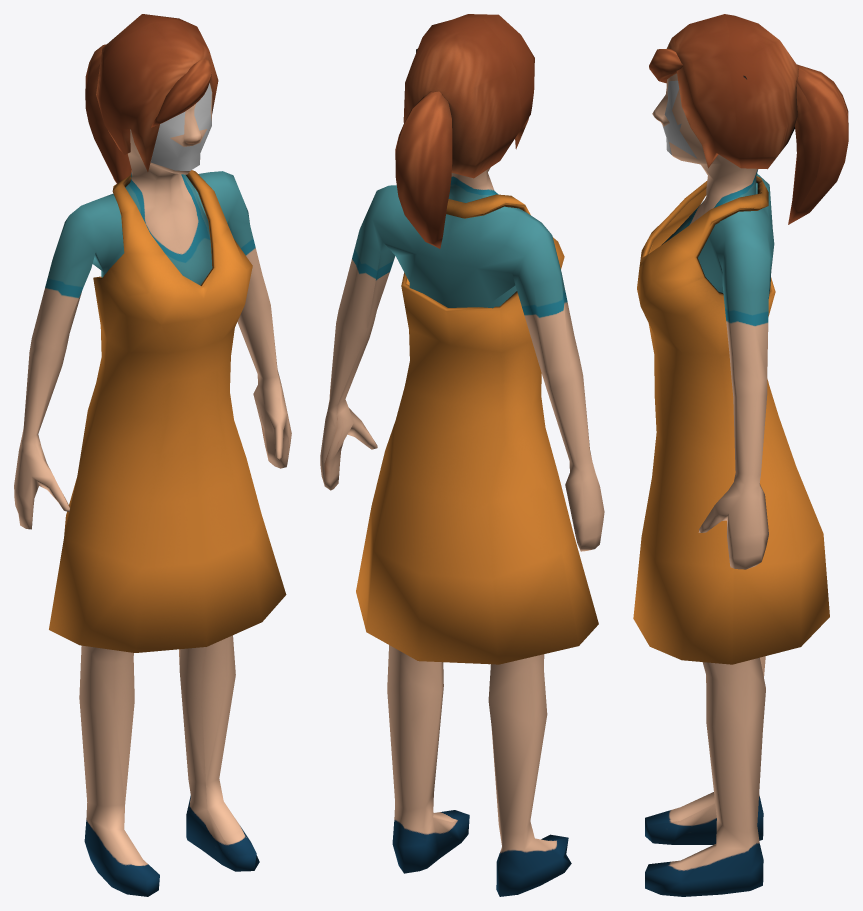
File: Girlfriend_interim.FBX
3 renders of one model, left to right at view 1: azimuth 30°, elevation 25°; view 2: azimuth 150°, elevation 25°; view 3: azimuth 270°, elevation 25°, orthographic. The views are drawn at different scales.
Visible parts, largest first — view 1: Object012, Object007, Face; view 2: Object012, Object007; view 3: Object012, Object007, Face.
Boxes of the visible parts, x1,y1,x2,y2 form: Object012: (14,83,291,896); Object007: (85,14,218,183); Face: (151,83,211,170); Object012: (320,48,604,896); Object007: (395,14,534,248); Object012: (633,73,829,896); Object007: (649,14,848,224); Face: (662,80,697,158).
Bounding box in the file's own units: 0.3861 × 1.14 × 0.2643.
